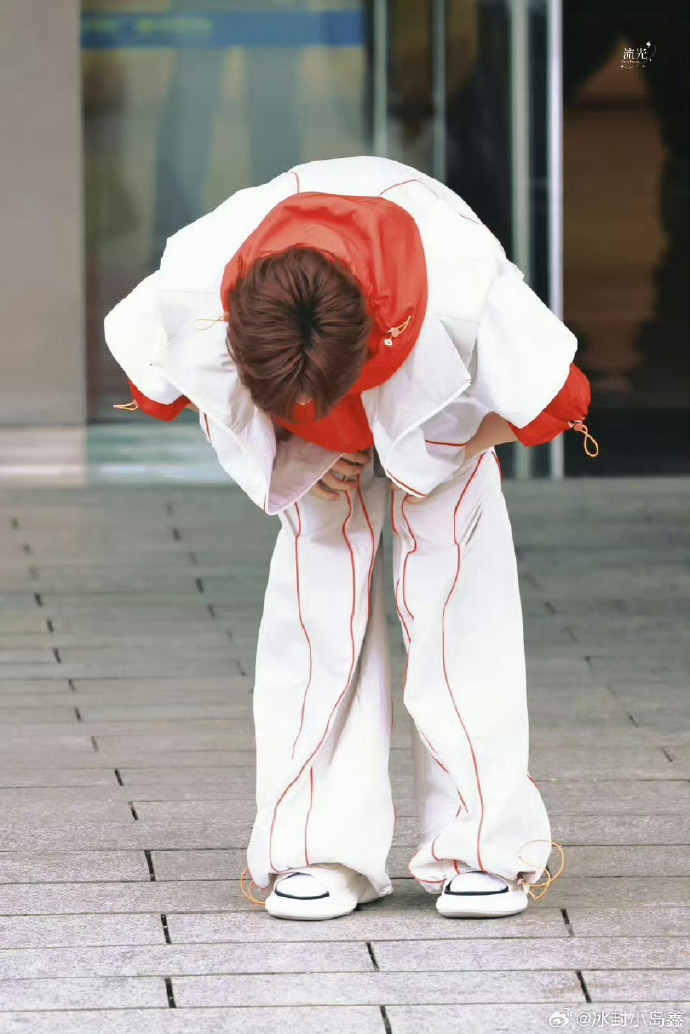bending: (89, 126, 607, 932)
